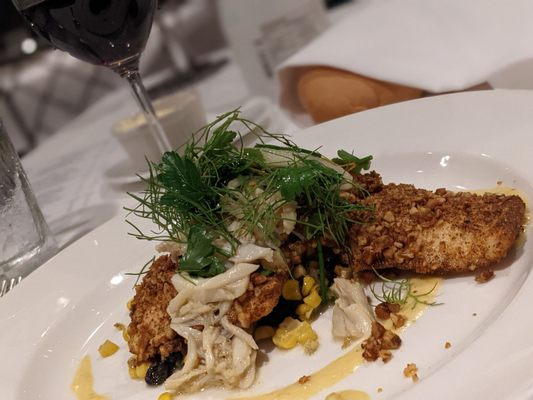curry: (0, 3, 532, 400)
sandwich: (9, 0, 179, 163)
